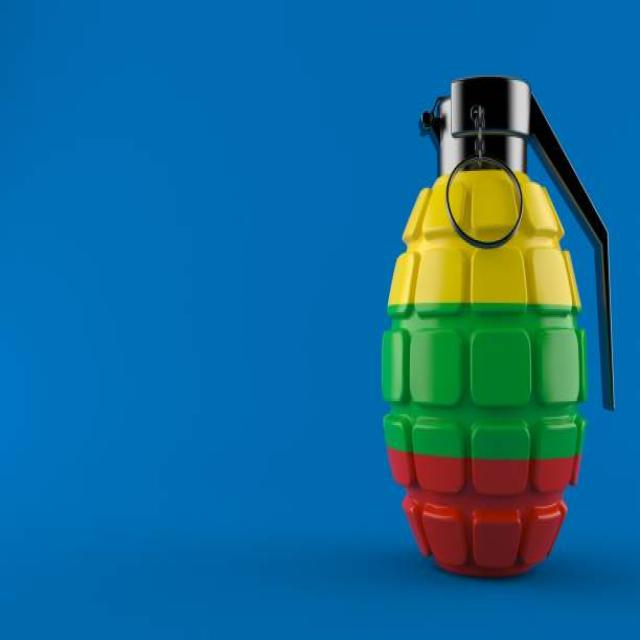grenade: (377, 68, 629, 587)
